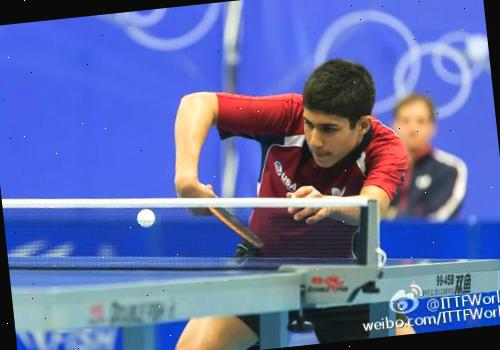ball: (130, 205, 159, 232)
